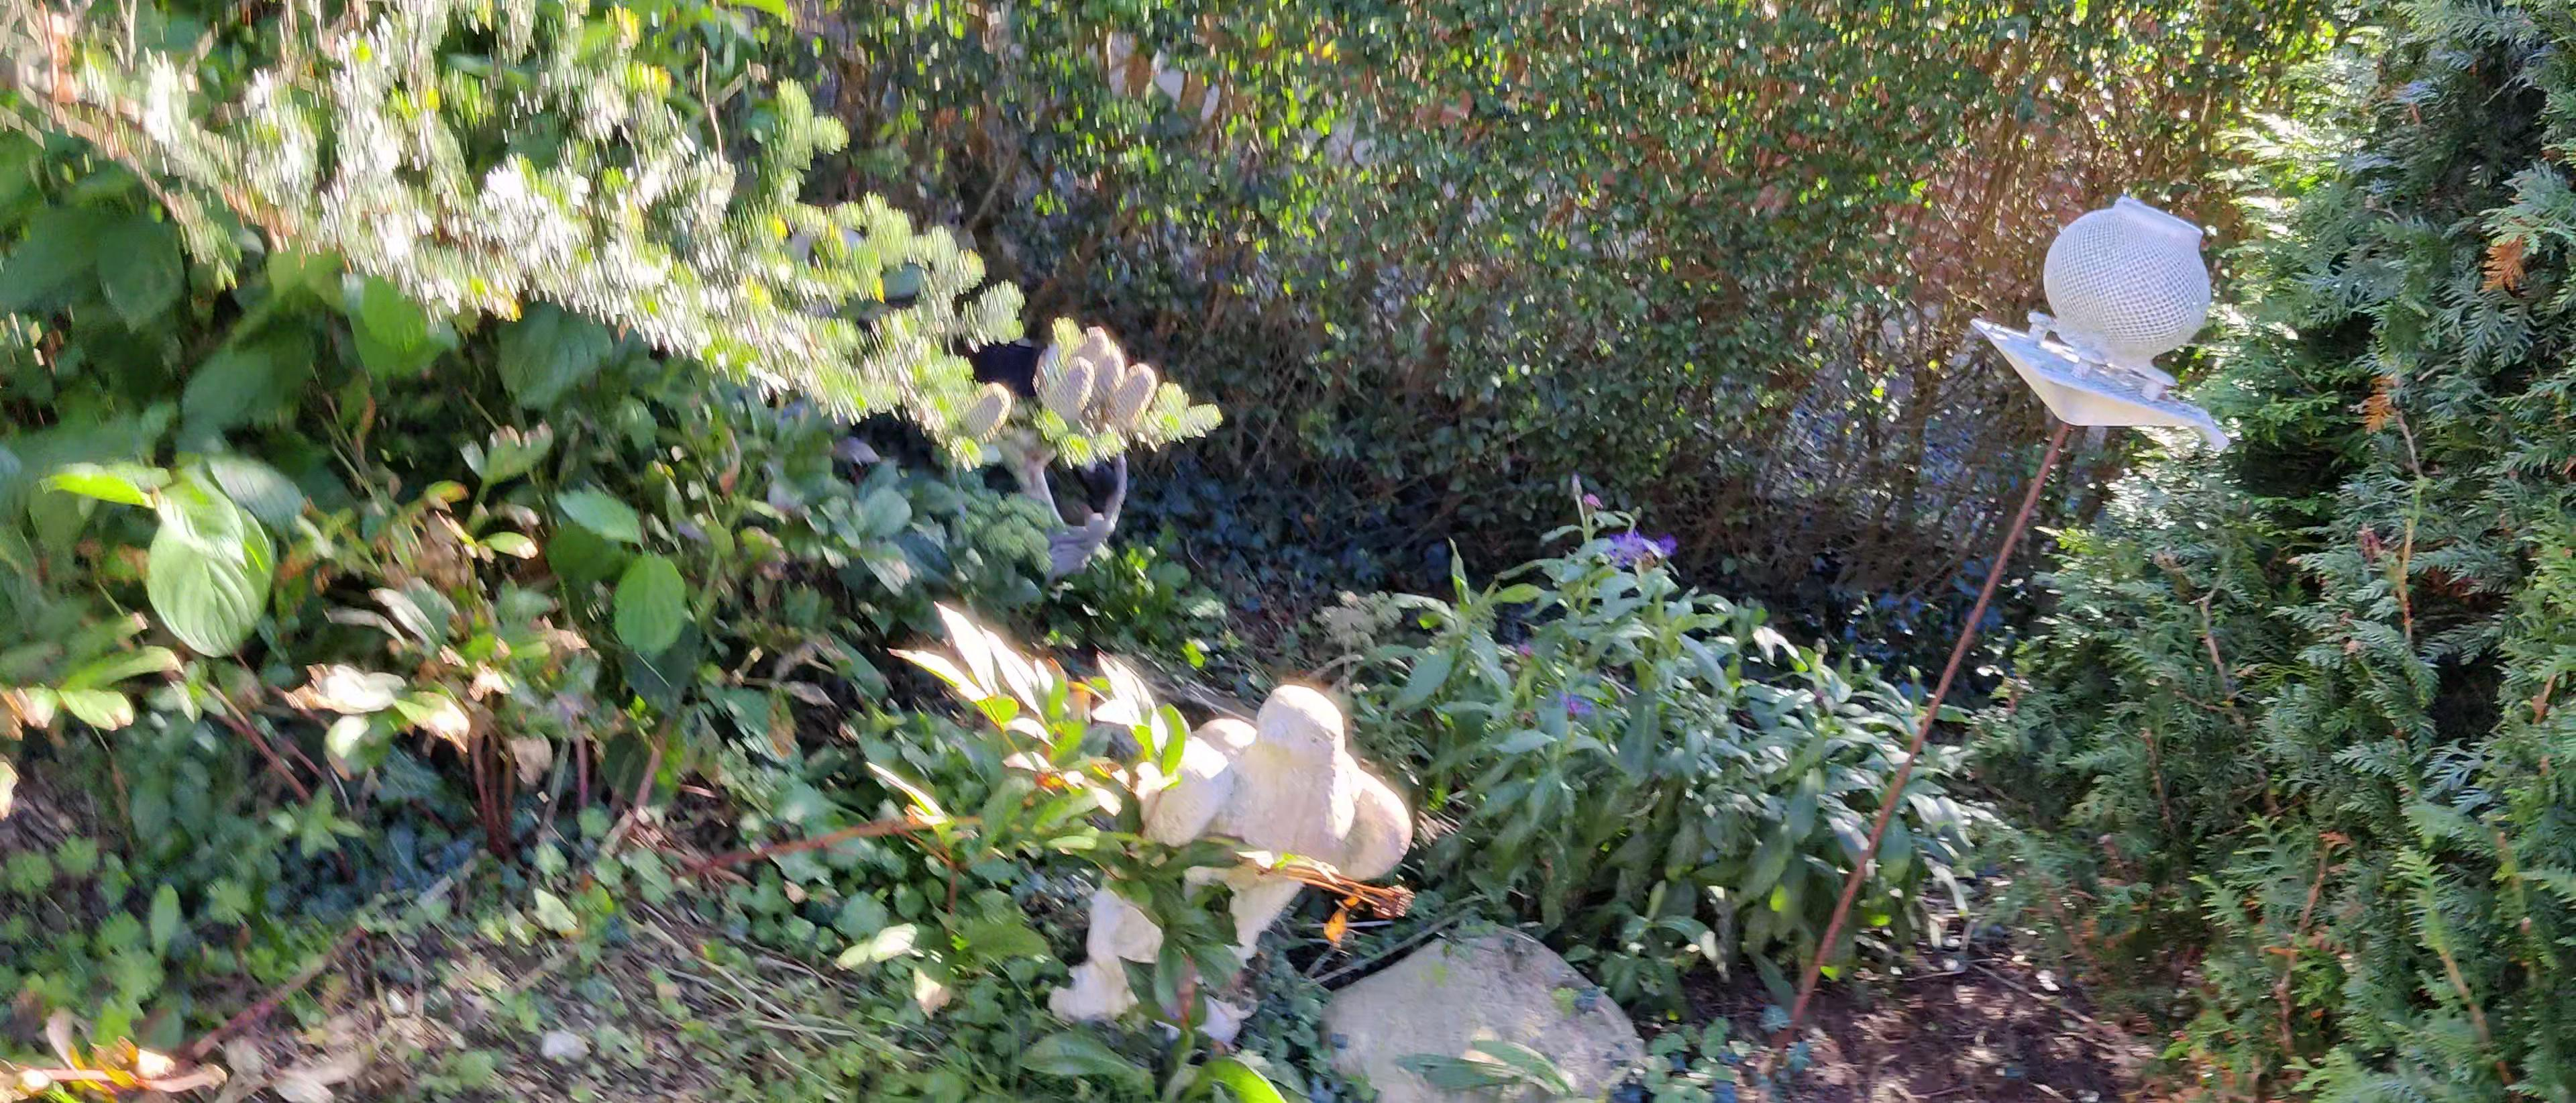Dog: (951, 337, 1120, 539)
